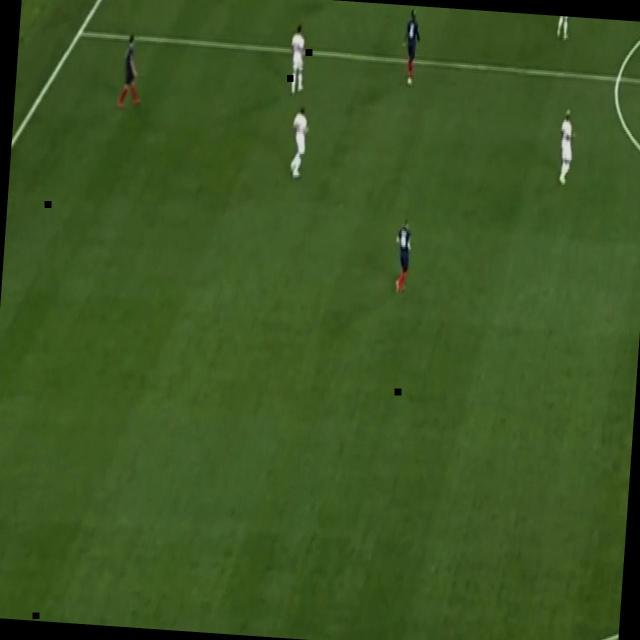player-white: (114, 31, 147, 113), (388, 212, 416, 298), (287, 102, 313, 184), (398, 5, 423, 89), (555, 106, 579, 190), (286, 20, 310, 97), (541, 15, 580, 44)
